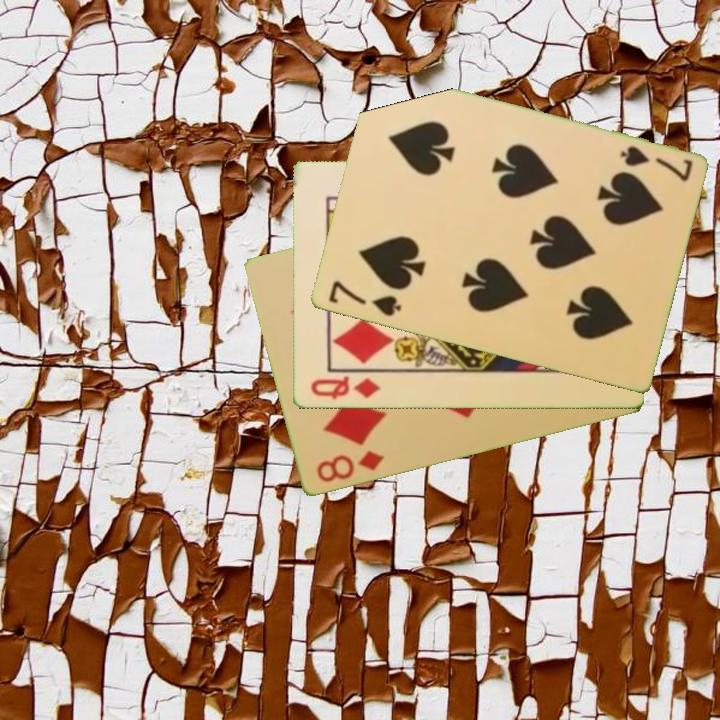7s: (324, 277, 404, 320), (616, 142, 695, 185)
8d: (312, 447, 387, 486)
Qd: (307, 373, 383, 402)
